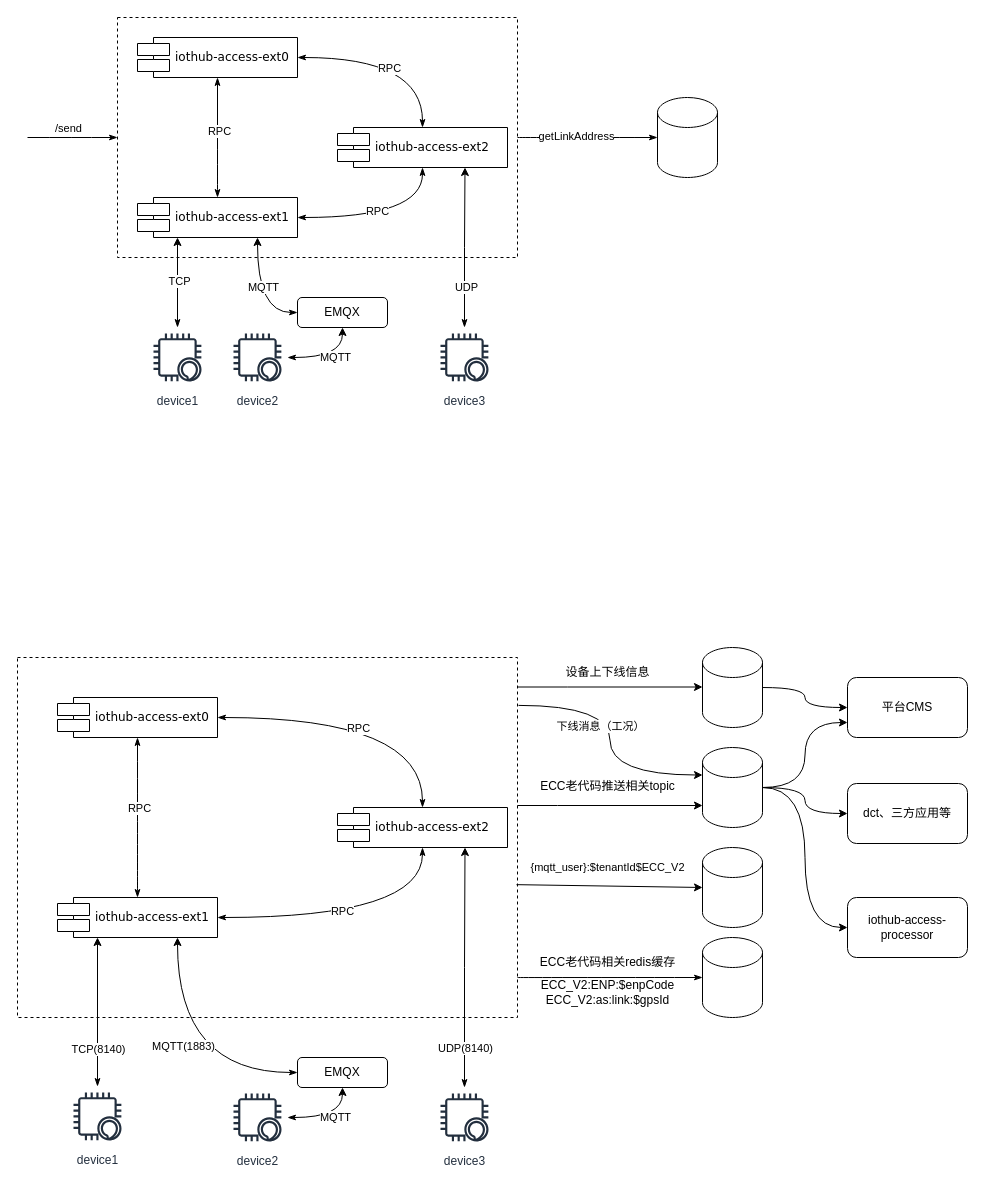
Some shapes in this 985 by 1186 pixel diagram are drawn without their labels. Each missing label, with the centre of its shape:
"kafka1" belongs at [732,787].
"kafka2" belongs at [732,687].
"redis" belongs at [687,137].
"redis1 (sentinel)" belongs at [732,887].
"redis2 (sentinel)" belongs at [732,977].
